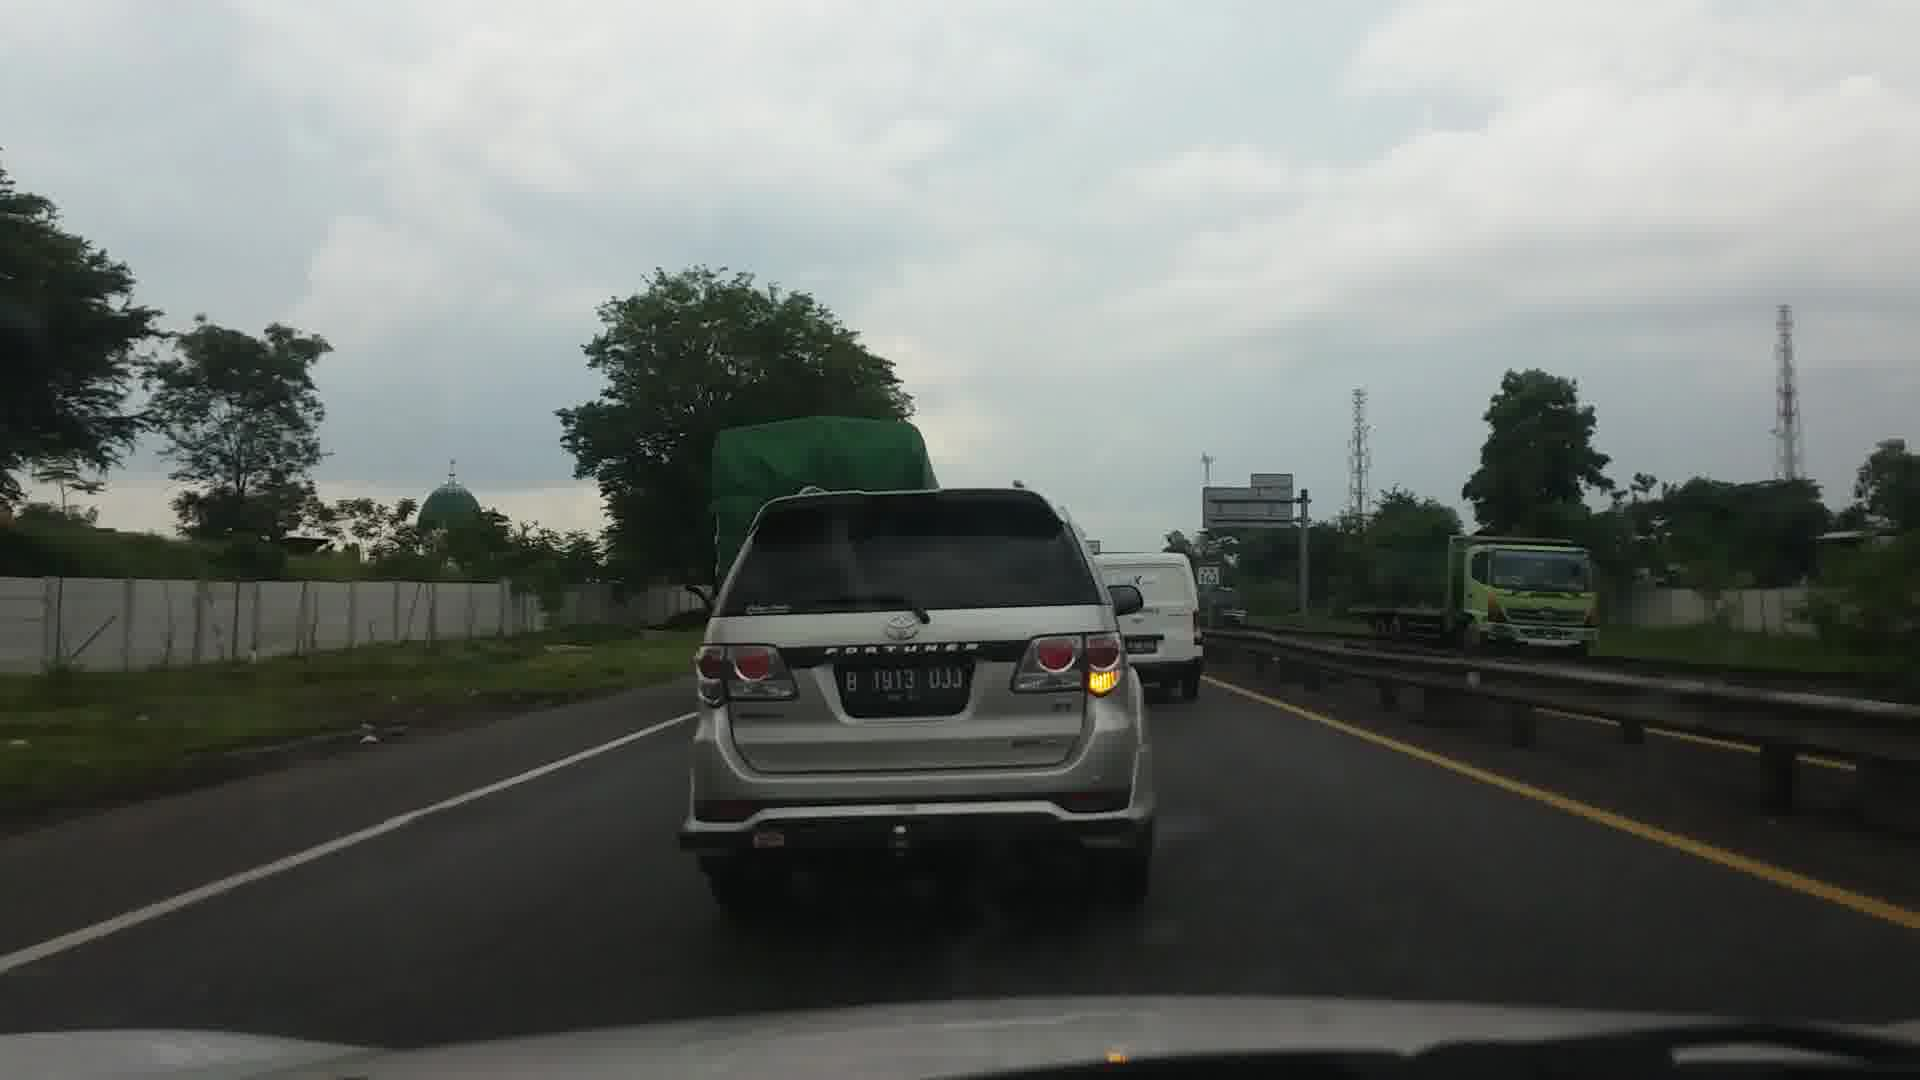plate_positive: (841, 665, 969, 705)
